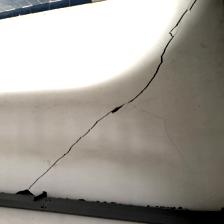Medium: (25, 10, 205, 186)
